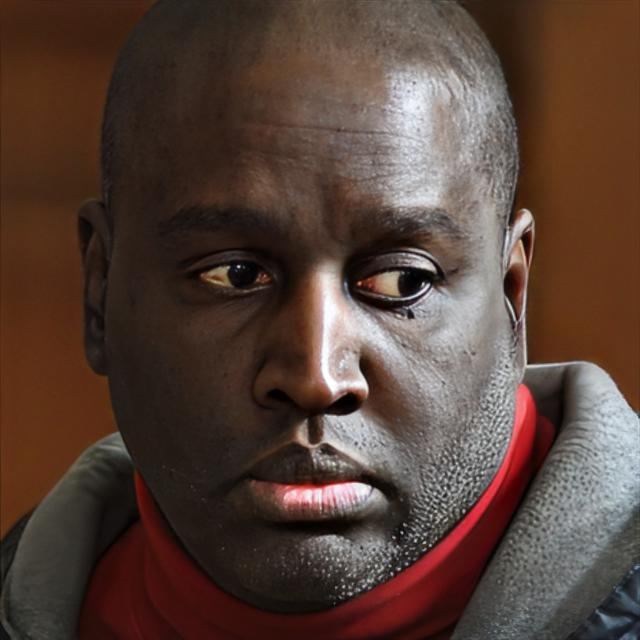sad: (114, 58, 506, 598)
